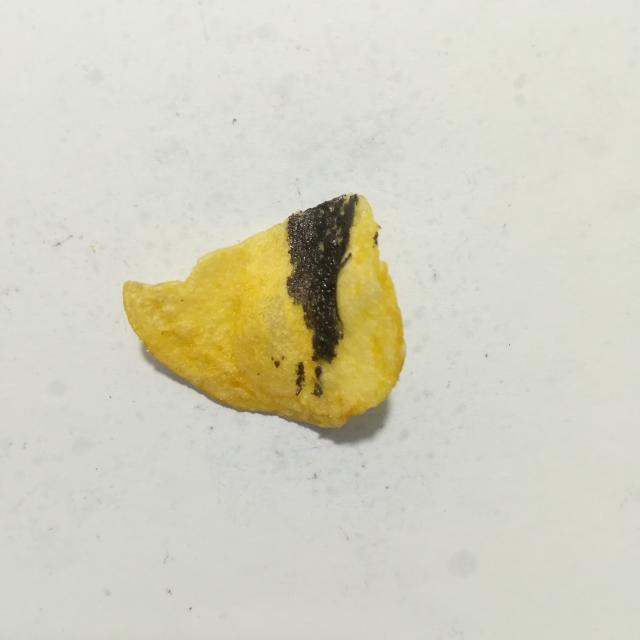chip: (123, 194, 405, 427)
damaged: (286, 194, 358, 362), (295, 362, 305, 396), (312, 382, 323, 398), (314, 365, 322, 378), (374, 230, 379, 244), (274, 360, 280, 368), (271, 356, 274, 361), (281, 355, 284, 360), (257, 373, 260, 375)
